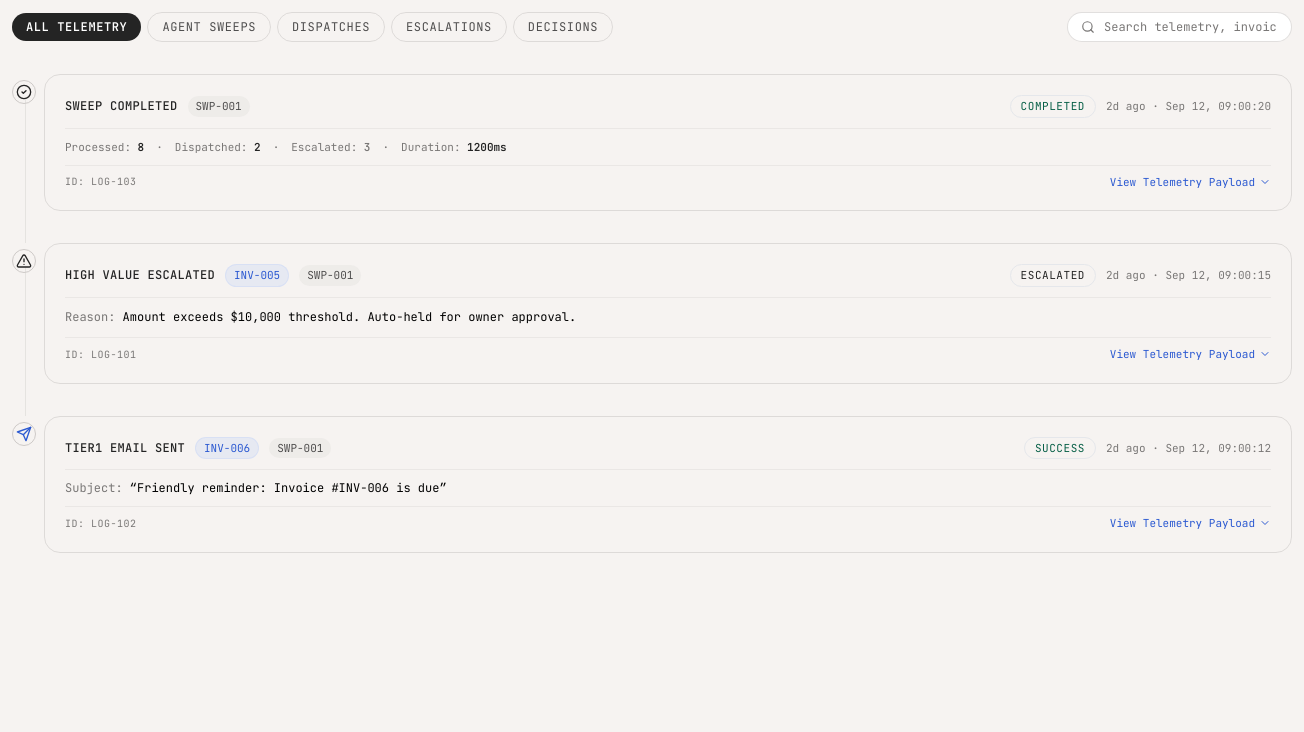
Scenario: AuditTimeline Component › shows empty state when no matching records found
In the field with placeholder "Search telemetry, invoices...": {"x": 1180, "y": 27} [1067,12,1292,42], type "NONEXISTENT_QUERY_123"
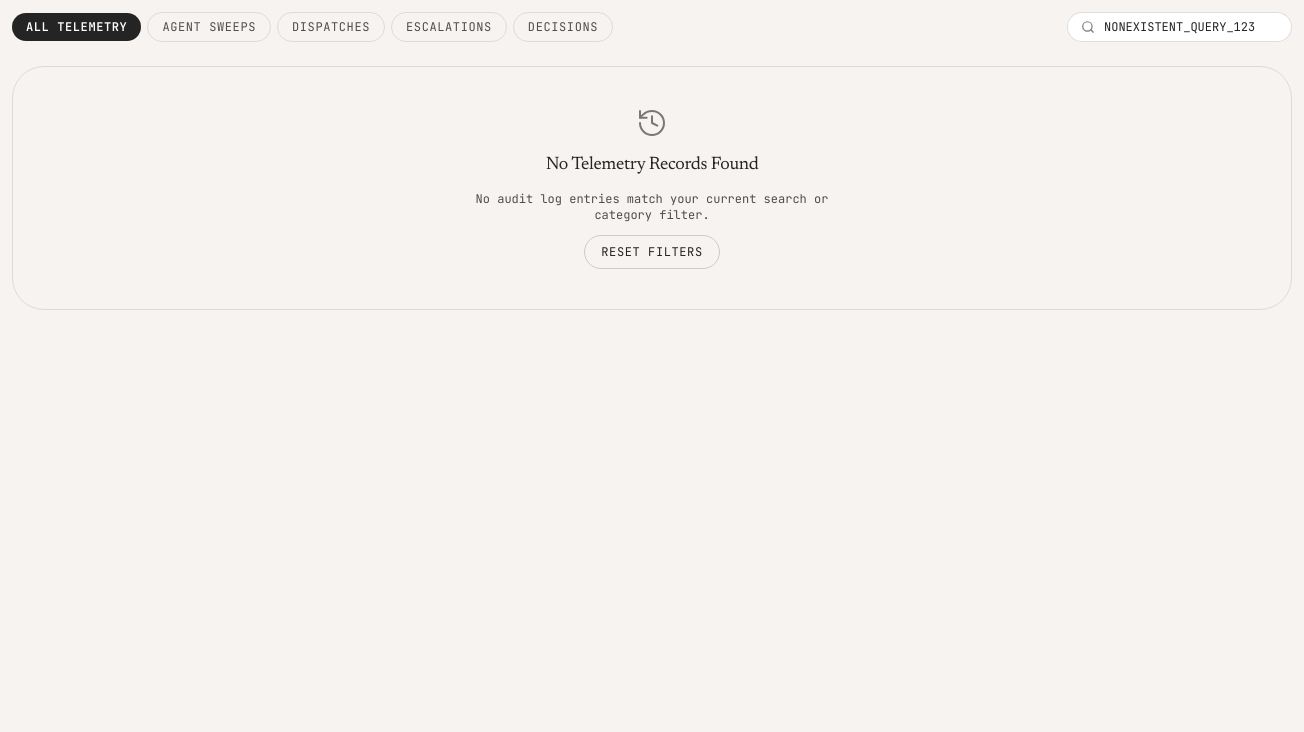
Check: the heading "No Telemetry Records Found" is shown, box [546,156,758,174]
